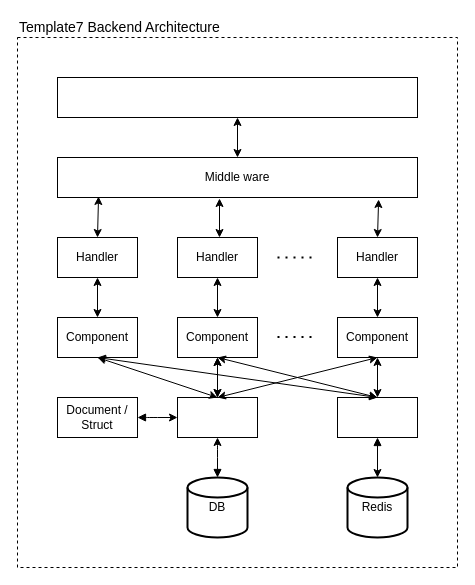
Some shapes in this 475 by 585 pixel diagram are drawn without their labels. The shapes that lost their labels are listed below. From the top down, each one's box as (x1, y1, x2, y2) in pixels, then its label:
(56, 76, 418, 118): API / Route
(176, 396, 258, 438): DB Client
(336, 396, 418, 438): Redis Client
